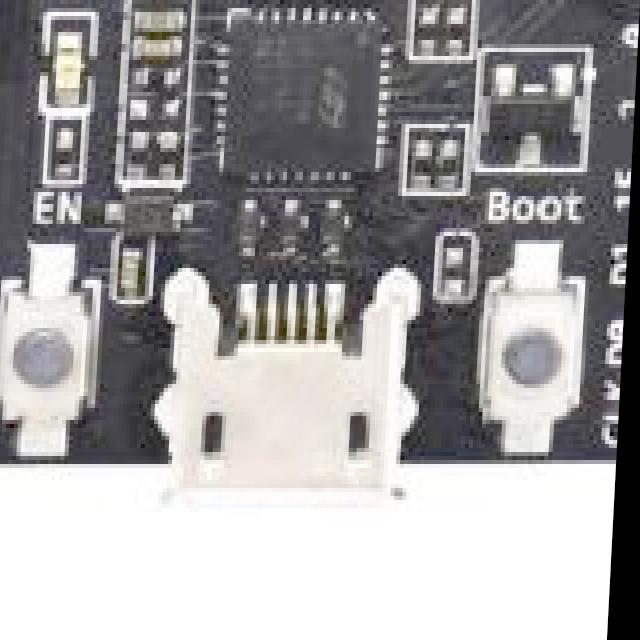IC: (224, 20, 369, 186)
LED: (52, 36, 91, 98)
capacitor: (141, 44, 176, 66), (128, 264, 149, 298), (143, 12, 176, 32)
connector: (168, 272, 421, 500)
diode: (122, 200, 194, 240), (322, 212, 351, 248), (238, 212, 265, 248), (282, 212, 307, 248)
resistor: (125, 136, 154, 178), (418, 12, 444, 50), (416, 144, 438, 188), (57, 128, 77, 176), (161, 136, 184, 176), (446, 20, 471, 56), (444, 148, 466, 188), (140, 72, 179, 88)
switch: (6, 276, 97, 448), (490, 276, 581, 430)
transistor: (489, 84, 583, 160)
